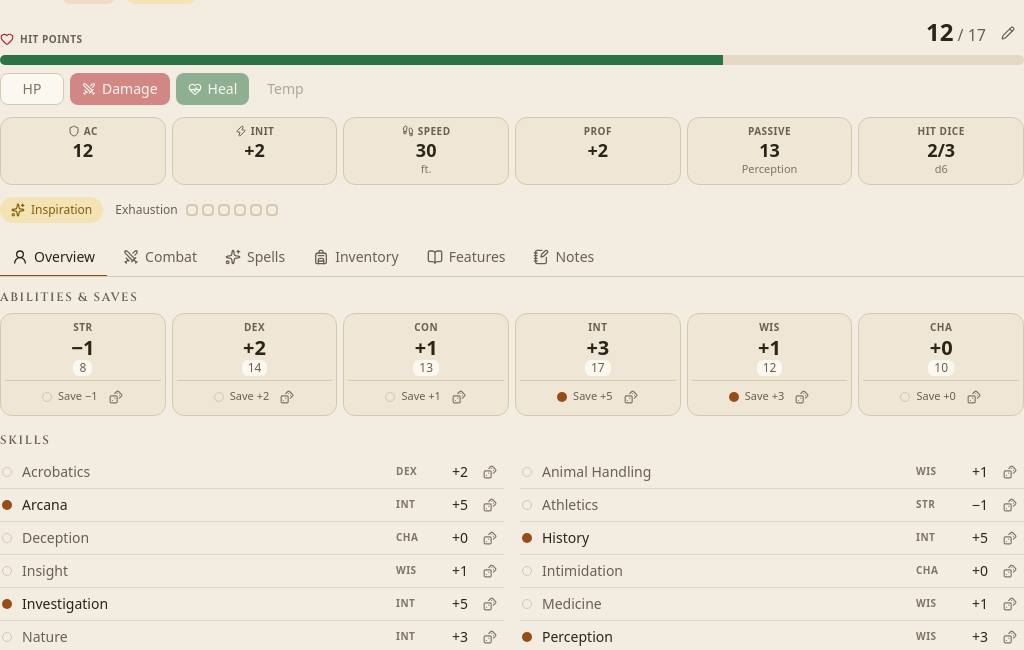
CharacterSheet › shows a spell's notes under its row and above its rules text, as the DM sees them
Click the tab "Spells": (255, 258) [213,238,297,276]
(page scrolled)
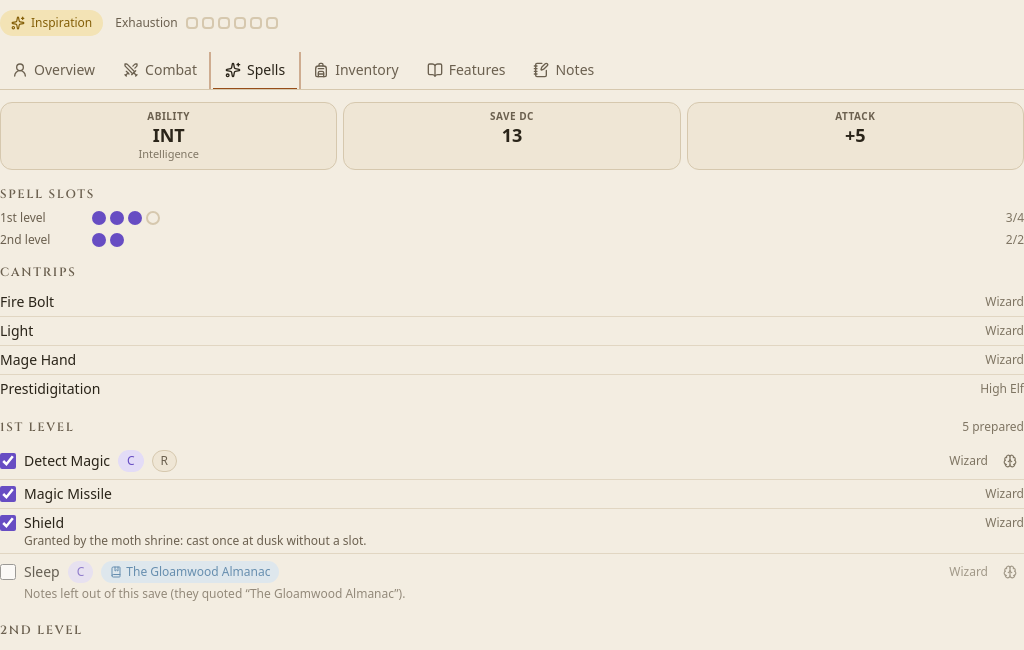
Expected: the text "Granted by the moth shrine: cast once at dusk without a slot." is shown, [24,532,366,548]
Expected: the text "Notes left out of this save (they quoted “The Gloamwood Almanac”)." is shown, [24,584,405,602]
Click the button "Shield": (44, 522) [24,512,64,532]
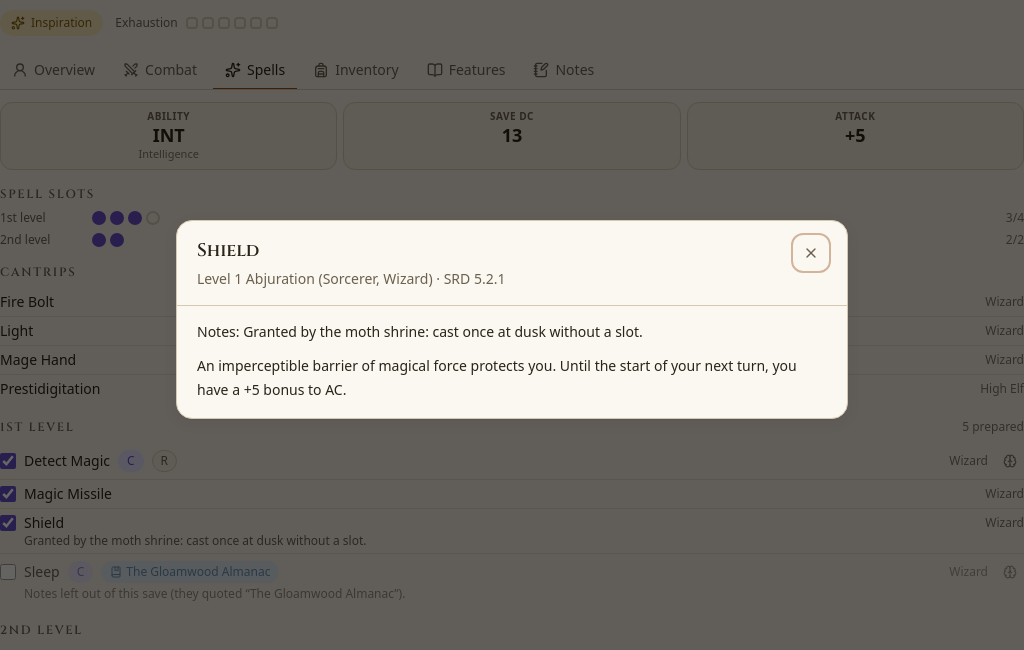
Expected: the text "Granted by the moth shrine: cast once at dusk without a slot." is shown, [243,322,643,340]
Expected: the text "Notes:" is shown, [197,322,243,340]
